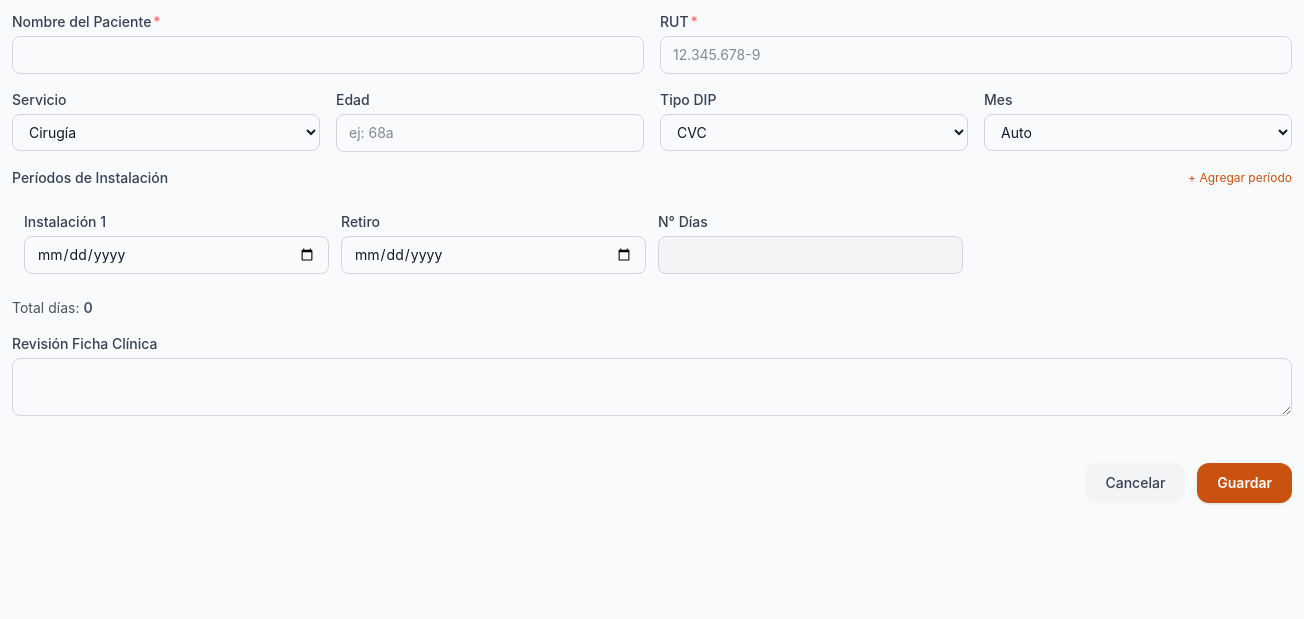
Scenario: DipForm › can add a periodo
Expected: the text "Instalación 1" is shown, [24,213,106,230]
Expected: the text "Instalación 2" is not shown
Click the button "+ Agregar período".
click(1240, 178)  # box [1188,170,1292,186]
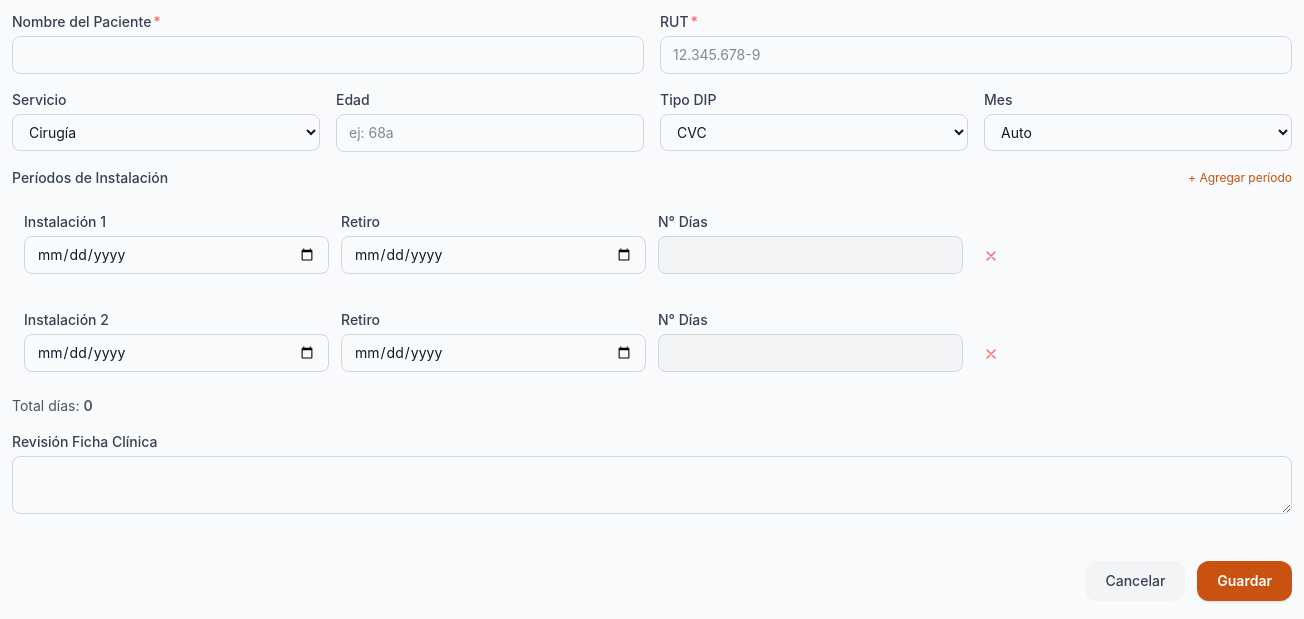
Expected: the text "Instalación 2" is shown, [24,311,109,328]
